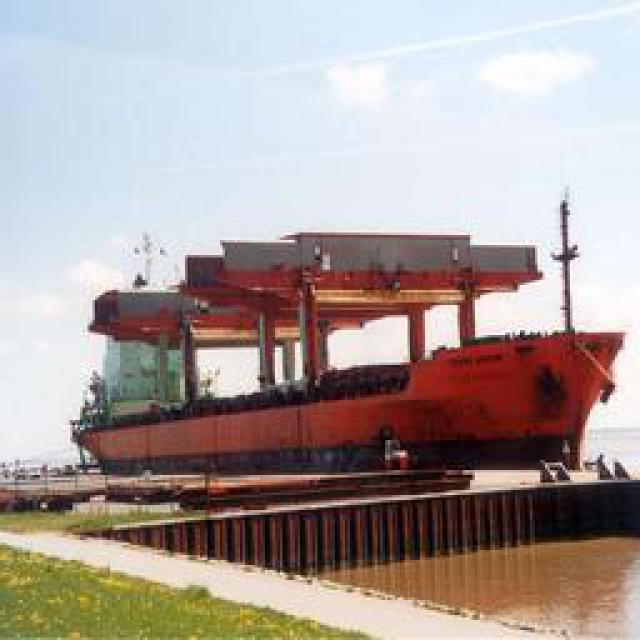Ship: (75, 323, 628, 478)
